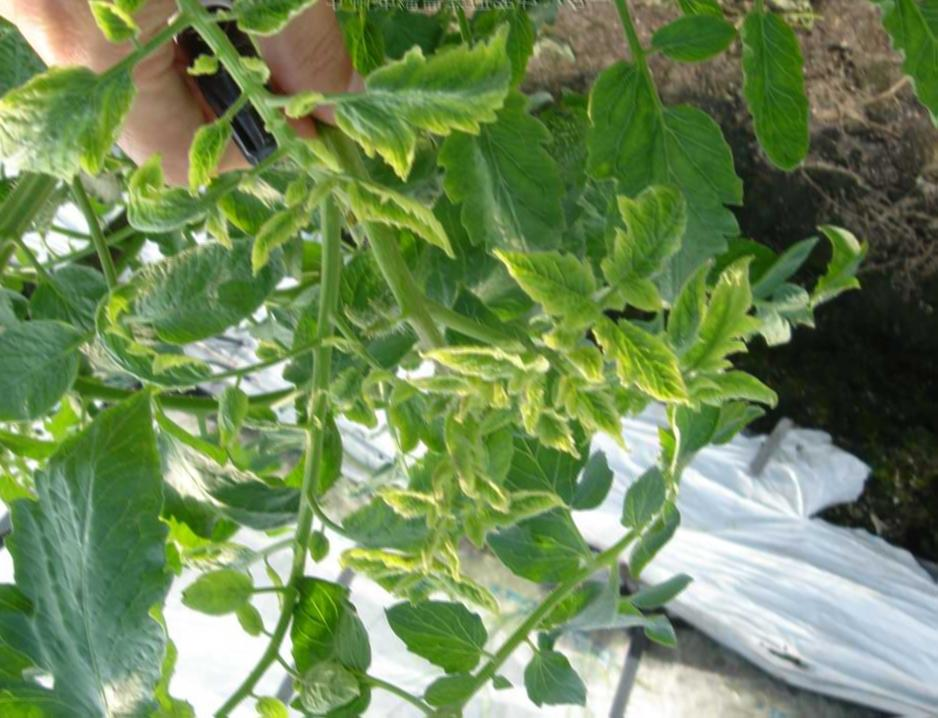Tomato leaf yellow virus: (330, 19, 540, 175), (0, 45, 161, 184), (308, 154, 465, 269), (487, 245, 613, 332), (604, 180, 689, 302), (127, 175, 259, 246), (600, 319, 694, 406), (415, 335, 536, 387), (230, 0, 326, 43), (372, 477, 444, 530)
